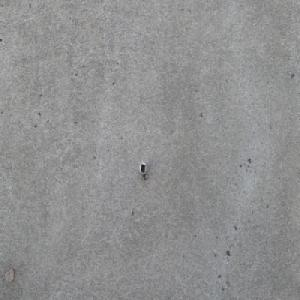MetalPart: (139, 161, 147, 181)
